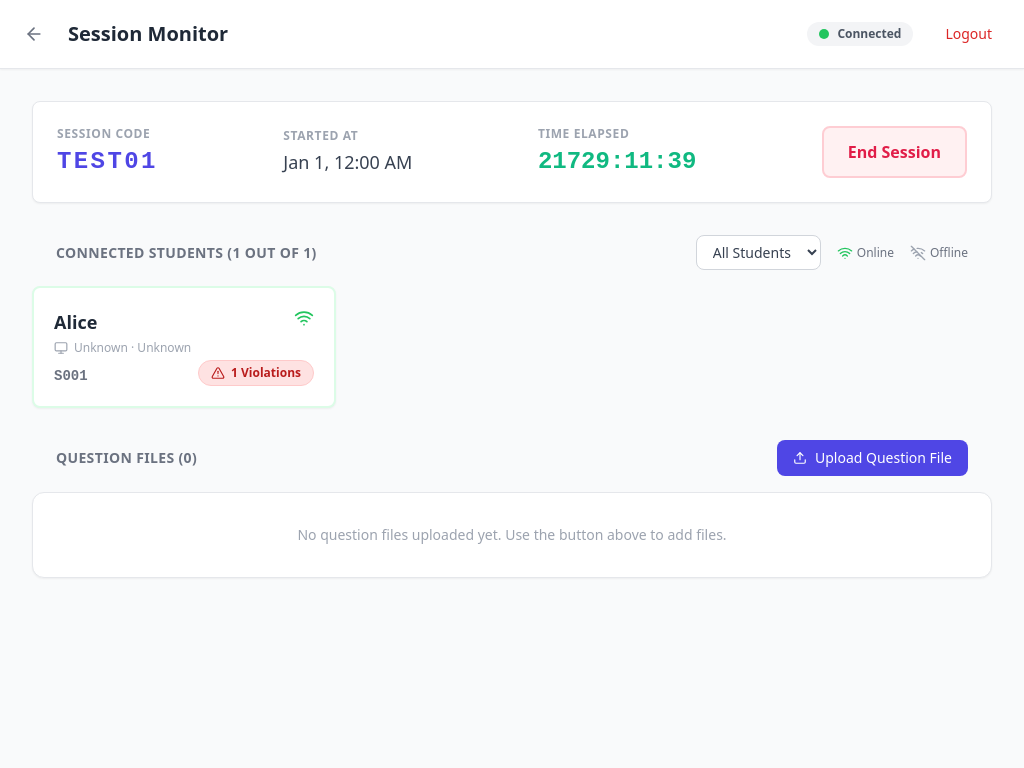
SessionDetail › should open violation modal when clicking violations on student card
This screenshot has width=1024, height=768.
Step 1. Click the button "1 Violations" → (256, 373), box left=198, top=360, right=314, bottom=386
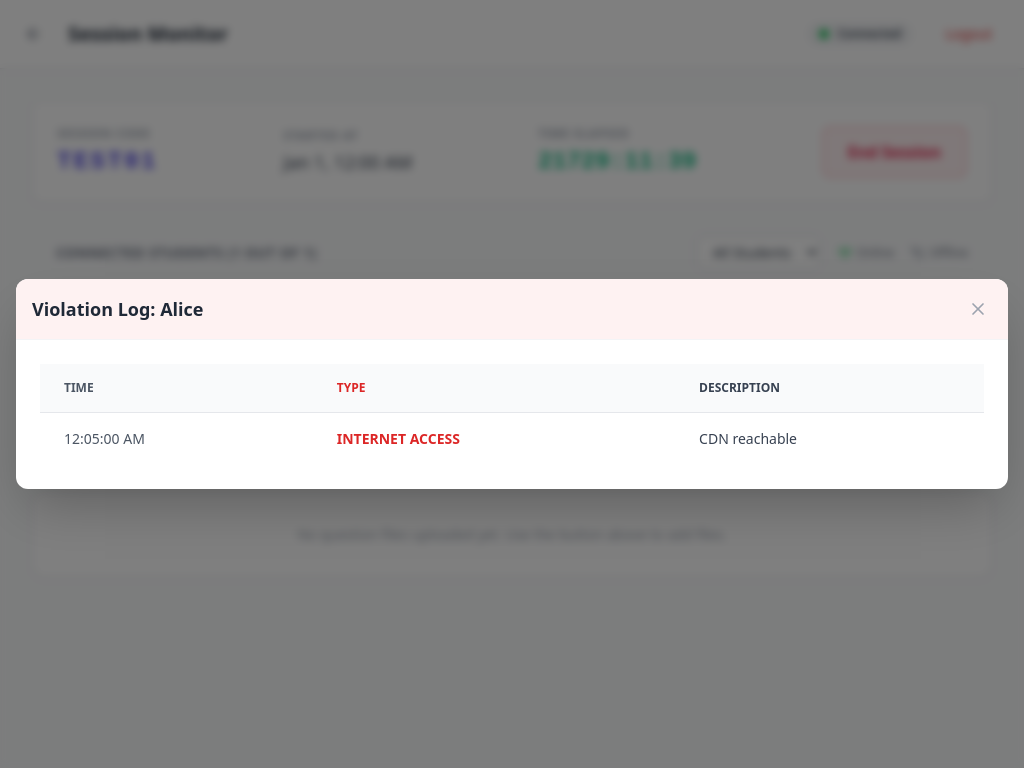
Expected: the text "Violation Log: Alice" is shown, left=32, top=297, right=204, bottom=321
Expected: the text "INTERNET ACCESS" is shown, left=337, top=429, right=460, bottom=448
